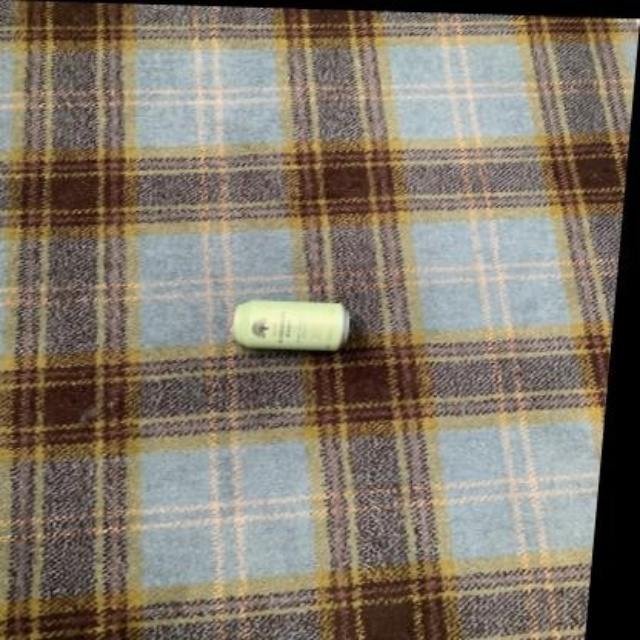trash: (232, 300, 348, 349)
